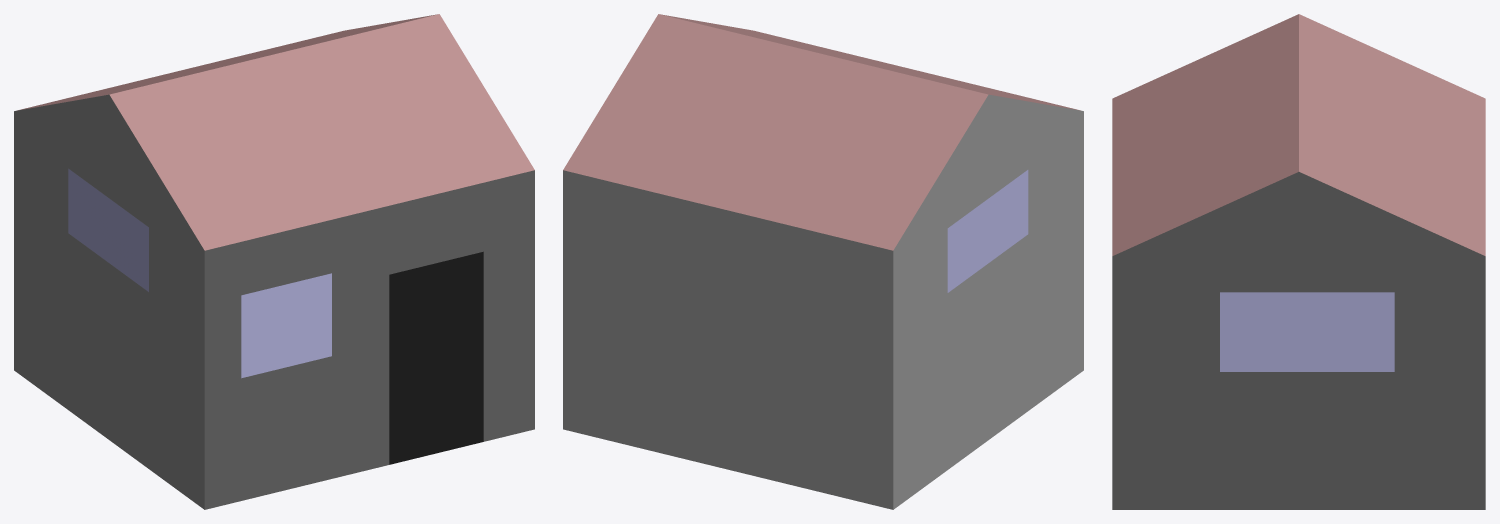
Rendered from station2.dae.
3 views of the same model, side by side, from view 1: azimuth 30°, elevation 25°; view 2: azimuth 150°, elevation 25°; view 3: azimuth 270°, elevation 25° (orthographic). The views are drawn at different scales.
Parts seen in each view (by area): view 1: SketchUp (×6); view 2: SketchUp (×3); view 3: SketchUp (×3).
Part boxes in pixels (box(x1,y1,x2,y2)): SketchUp (×6): box(14, 14, 534, 509); SketchUp (×3): box(563, 14, 1083, 509); SketchUp (×3): box(1112, 14, 1485, 509).
Bounding box in the file's own units: 157 × 157 × 157.
